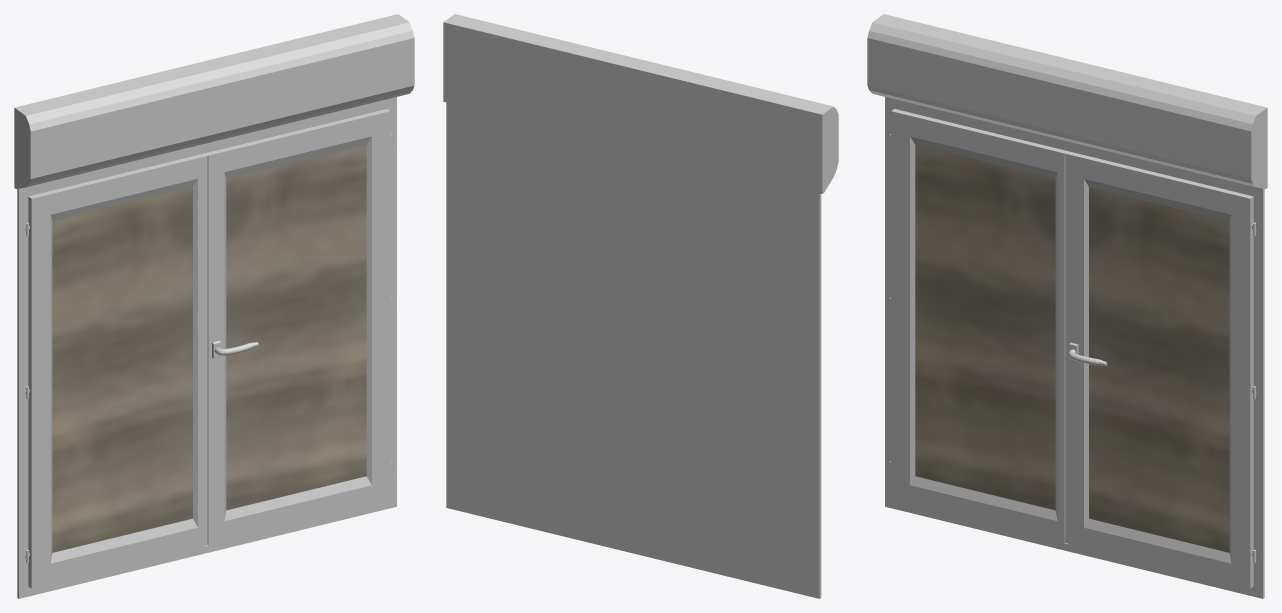
File: Fenetre.fbx
The picture shows the model from 3 angles, left to right: view 1: azimuth 30°, elevation 25°; view 2: azimuth 150°, elevation 25°; view 3: azimuth 330°, elevation 25°; orthographic projection.
Parts seen in each view (by area): view 1: Fenetre; view 2: Fenetre; view 3: Fenetre.
Part boxes in pixels (x1=…): Fenetre: x1=14, y1=14, x2=414, y2=598; Fenetre: x1=443, y1=14, x2=838, y2=598; Fenetre: x1=867, y1=14, x2=1267, y2=598.
Bounding box in the file's own units: 135 × 165 × 10.
